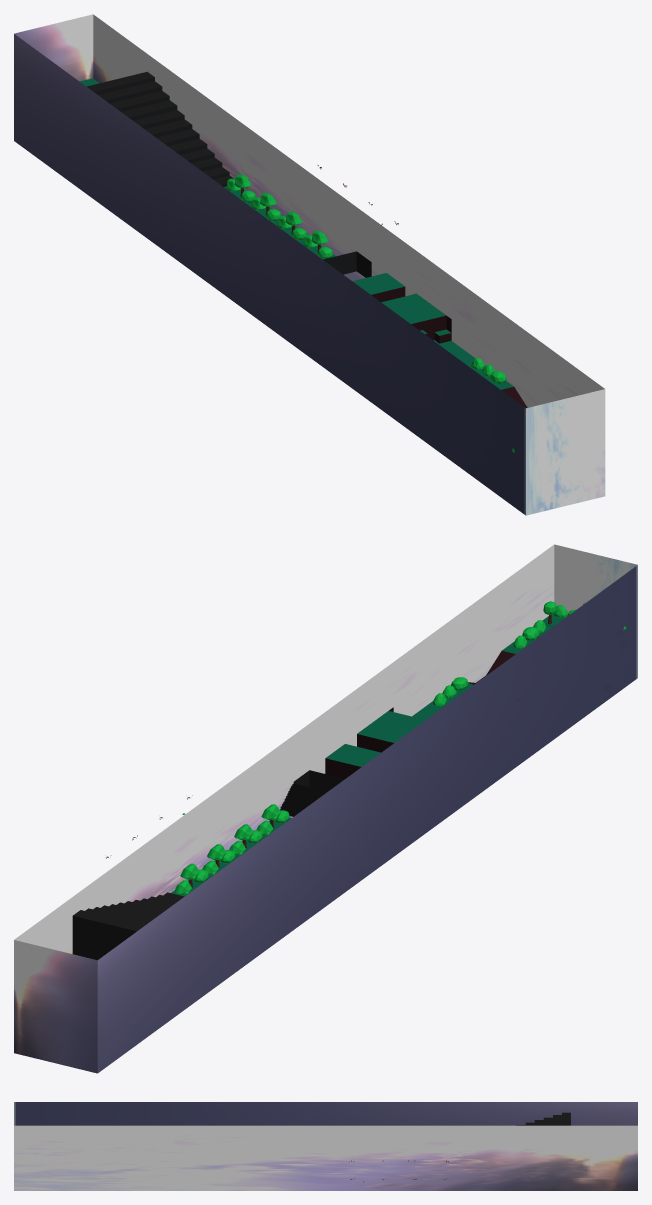
Rendered from Level1World.glb.
3 views of the same model, one above another, from view 1: azimuth 30°, elevation 25°; view 2: azimuth 150°, elevation 25°; view 3: azimuth 270°, elevation 25° (orthographic). The views are drawn at different scales.
Parts seen in each view (by area): view 1: Walls, Floor; view 2: Walls, Floor; view 3: Walls, Floor.
Boxes of the visible parts, x1,y1,x2,y2 form: Walls: [14, 14, 605, 515]; Floor: [80, 71, 527, 408]; Walls: [14, 544, 637, 1073]; Floor: [72, 614, 565, 960]; Walls: [14, 1102, 637, 1190]; Floor: [516, 1112, 570, 1125].
Bounding box in the file's own units: 39.14 × 26.44 × 228.
Materials: 8 (1 with a texture image).
